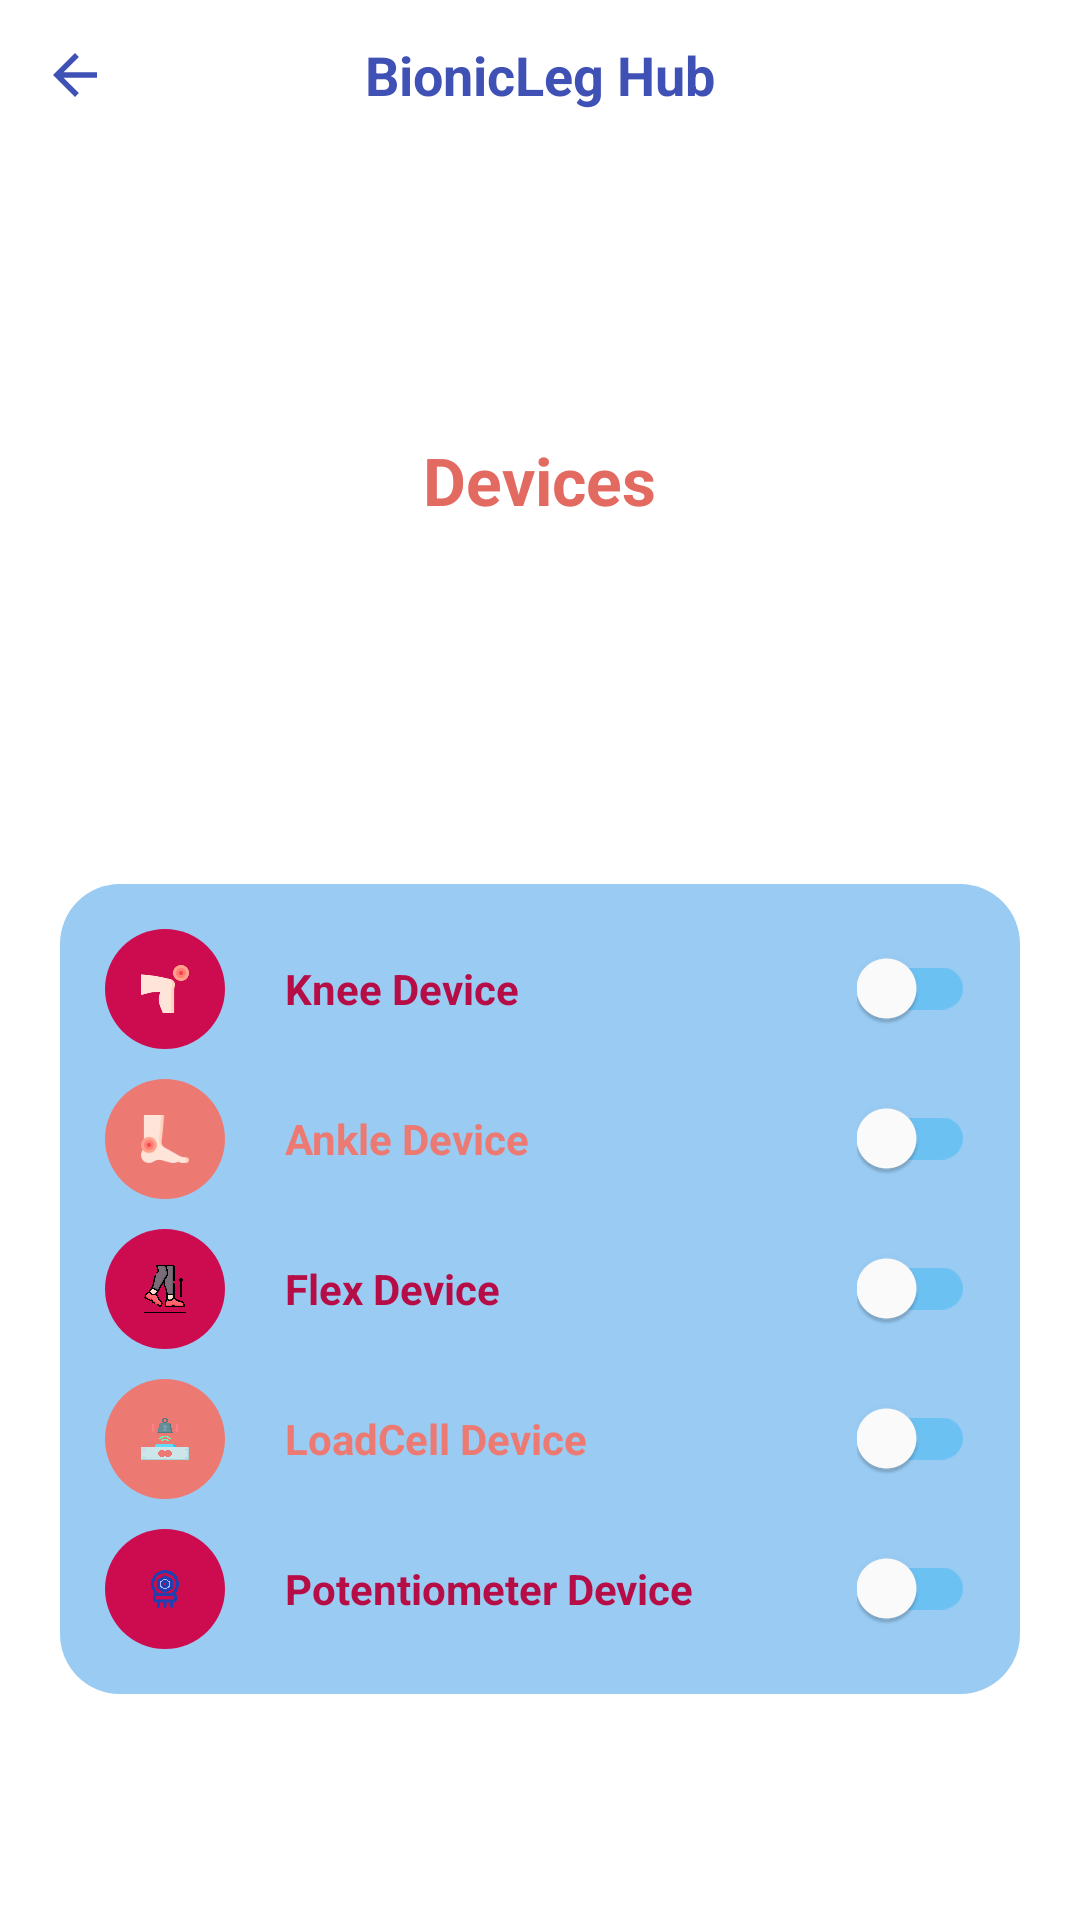

Screen size 1080w x 1920h. Icon name, then its center in pixels as (x,y):
back: (75,75)
flexion: (165,1289)
poids: (165,1439)
